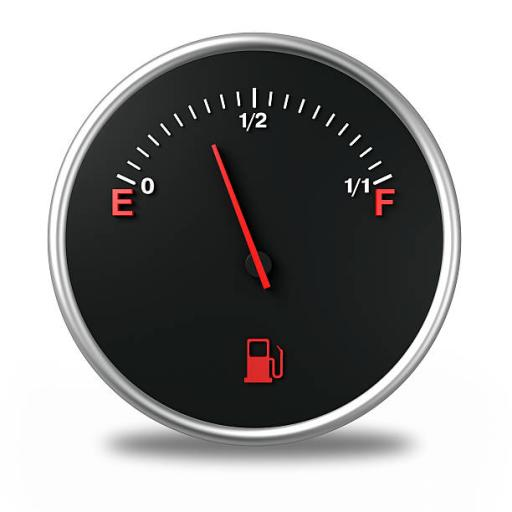empty: (109, 185, 135, 220)
fuel_icon: (235, 329, 288, 389)
full: (372, 187, 398, 220)
guage_area: (44, 26, 482, 451)
needle_center: (234, 240, 284, 292)
needle_tip: (204, 139, 229, 165)
